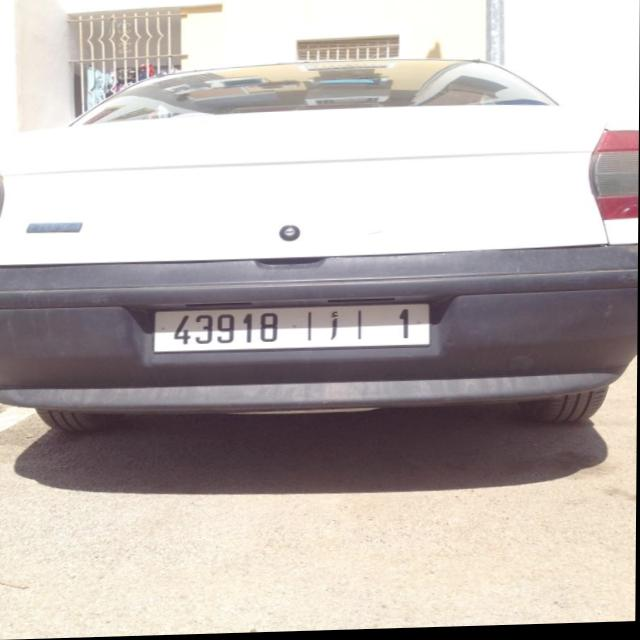License-Plate: (155, 306, 430, 354)
